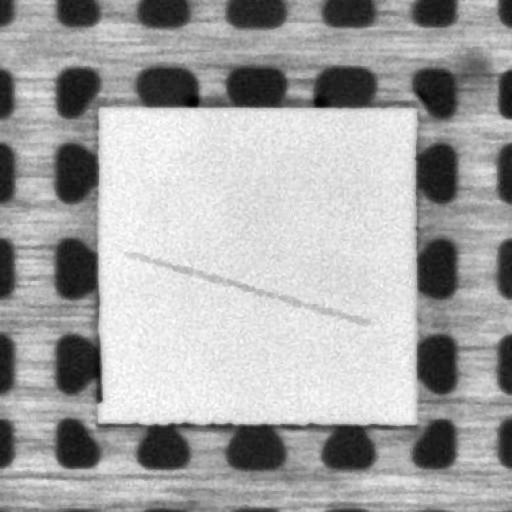DIE_CRACK: (127, 254, 365, 322)
